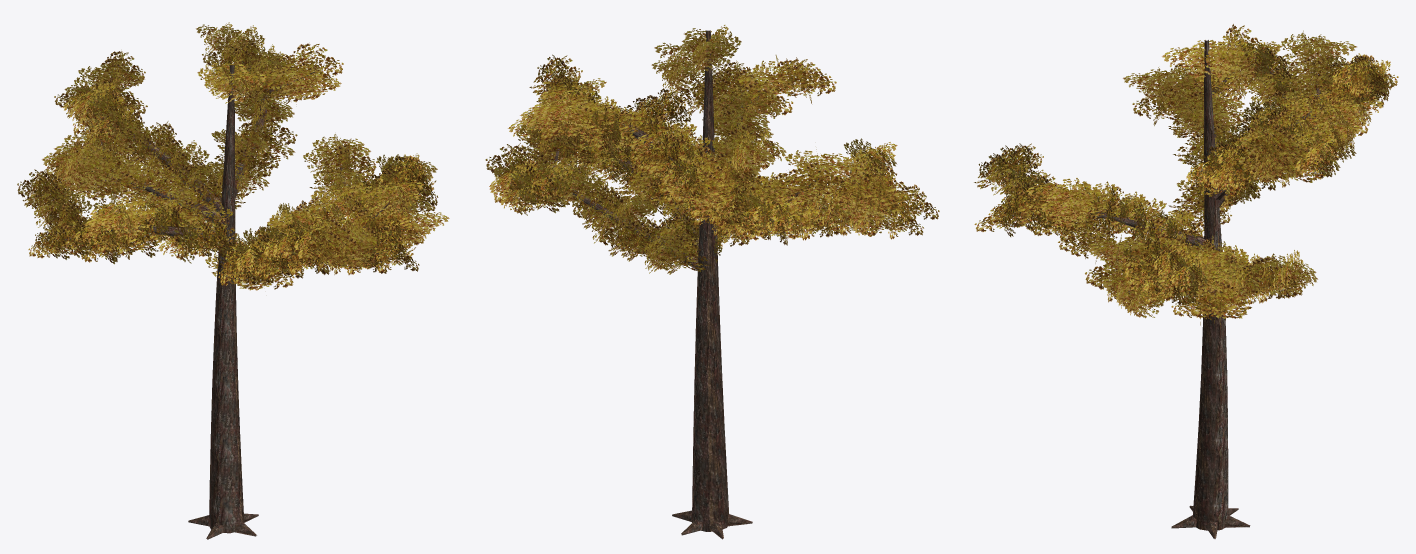
Rendered from tree_3d_03_yellow_lod0.glb.
The picture shows the model from 3 angles, left to right: view 1: azimuth 30°, elevation 25°; view 2: azimuth 150°, elevation 25°; view 3: azimuth 270°, elevation 25°; orthographic projection. The views are drawn at different scales.
Parts seen in each view (by area): view 1: foliage_cards, wood_geometry; view 2: foliage_cards, wood_geometry; view 3: foliage_cards, wood_geometry.
Part boxes in pixels (box(x1,y1,x2,y2)): foliage_cards: box(17, 22, 449, 290); wood_geometry: box(46, 45, 413, 539); foliage_cards: box(485, 25, 939, 274); wood_geometry: box(527, 30, 893, 539); foliage_cards: box(974, 24, 1398, 327); wood_geometry: box(1011, 40, 1370, 538).
Size of the model in its own units: 9.89 by 10.63 by 8.44.
2 materials, 2 textured.
